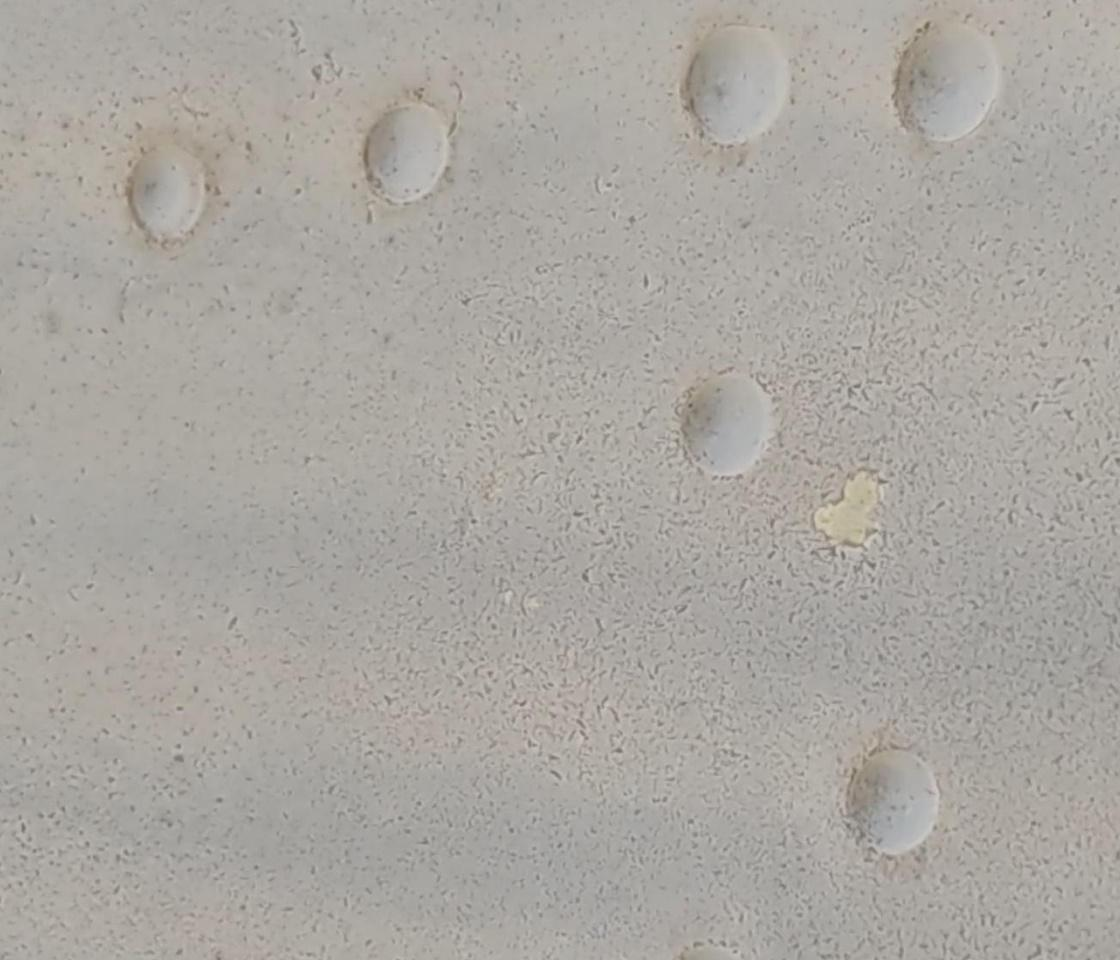paint_peel: (802, 464, 900, 562)
